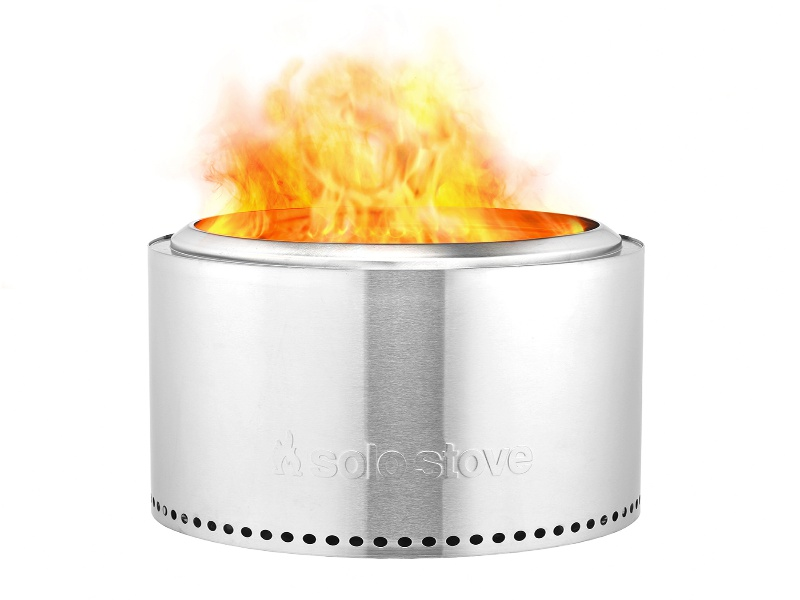fire: (198, 79, 513, 239)
